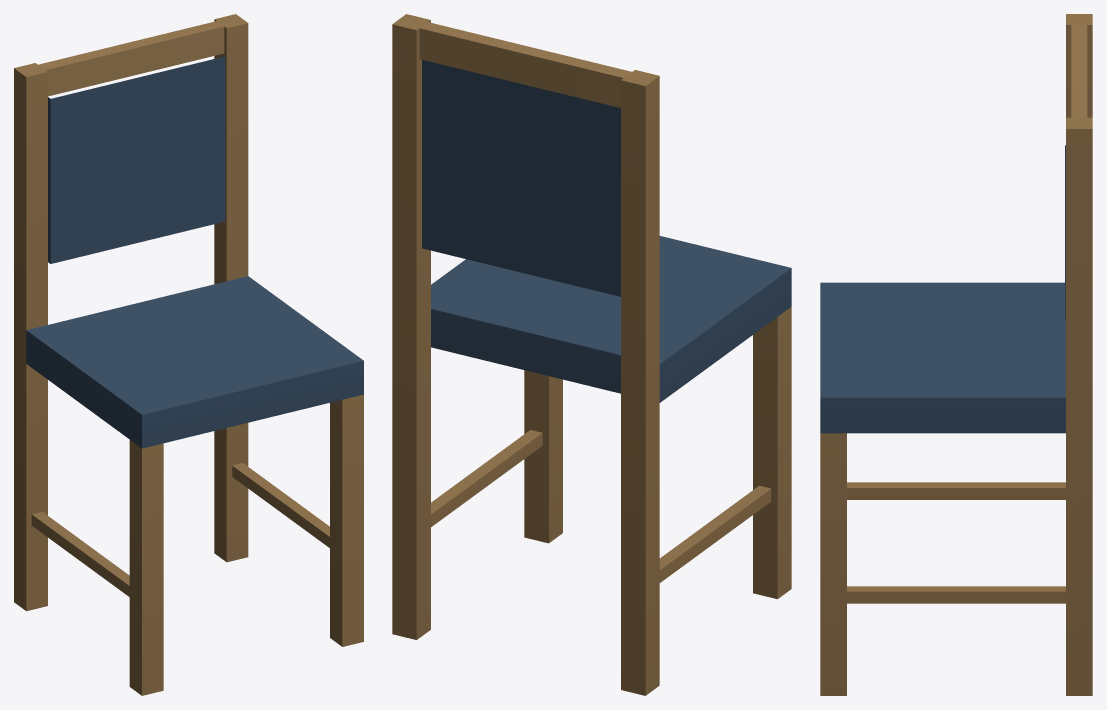
File: seat.chair_cushion.blue.glb
The picture shows the model from 3 angles, left to right: view 1: azimuth 30°, elevation 25°; view 2: azimuth 150°, elevation 25°; view 3: azimuth 270°, elevation 25°; orthographic projection. The views are drawn at different scales.
Visible parts, largest first — view 1: seat_chair_cushion_blue; view 2: seat_chair_cushion_blue; view 3: seat_chair_cushion_blue.
Boxes of the visible parts, left/top/right/bottom form: seat_chair_cushion_blue: left=14, top=14, right=363, bottom=695; seat_chair_cushion_blue: left=392, top=14, right=791, bottom=695; seat_chair_cushion_blue: left=820, top=14, right=1092, bottom=695.
Size of what is drawn, in the model's own units: 0.413 by 0.95 by 0.413.
